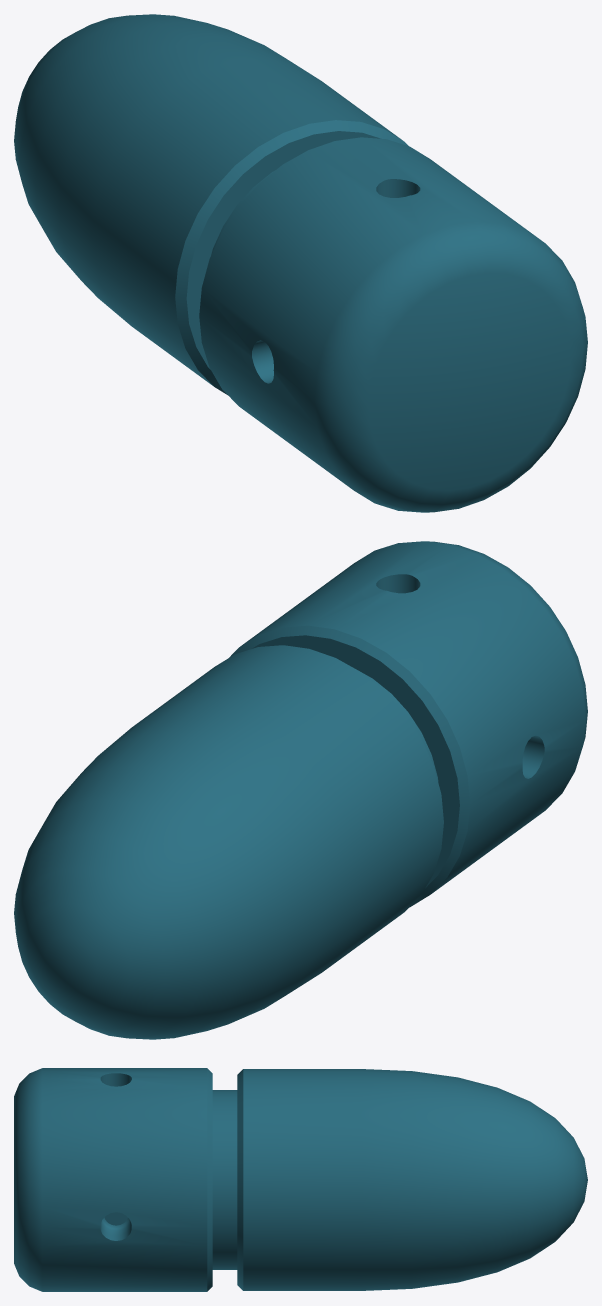
File: 大招9柯尔特.FBX
3 views of the same model, one above another, from view 1: azimuth 30°, elevation 25°; view 2: azimuth 150°, elevation 25°; view 3: azimuth 270°, elevation 25° (orthographic). The views are drawn at different scales.
Parts seen in each view (by area): view 1: Sphere001; view 2: Sphere001; view 3: Sphere001.
Part boxes in pixels (x1,y1,x2,y2): Sphere001: (14,14,587,512); Sphere001: (14,541,587,1039); Sphere001: (14,1068,587,1291).
Size of the model in its own units: 40.88 by 40.88 by 105.
